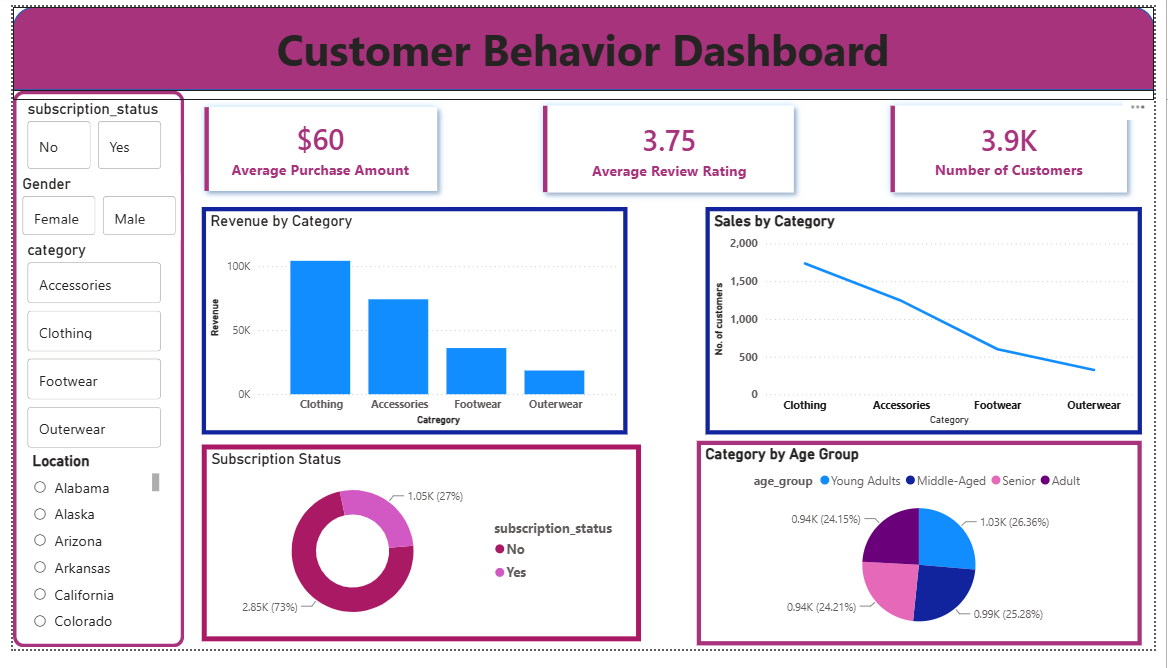

Layout of this report page (visuals, bound fields, positions):
{"tool":"powerbi","page":{"name":"Page 1","canvas":[1280,720],"ordinal":0},"visuals":[{"type":"shape","box":[0,0,1280.3,93.3],"z":0,"group":"g4"},{"type":"shape","box":[0,93.3,192.1,624.4],"z":0},{"type":"cardVisual","fields":{"Data":["dev customer_behaviour.Average Purchase Amount"]},"box":[196.2,93.3,297.8,130.4],"z":0,"group":"g3"},{"type":"advancedSlicerVisual","fields":{"Values":["dev customer_behaviour.subscription_status"]},"box":[11,104.3,160.5,83.7],"z":0,"group":"g1"},{"type":"advancedSlicerVisual","title":"Gender","fields":{"Values":["dev customer_behaviour.gender"]},"box":[5.5,188,182.5,74.1],"z":0,"group":"g2"},{"type":"textbox","box":[137.2,9.6,1004.5,94.7],"z":1000,"group":"g4"},{"type":"cardVisual","fields":{"Data":["dev customer_behaviour.Average Review Rating"]},"box":[577.7,93.3,315.6,131.7],"z":1000,"group":"g3"},{"type":"group","id":"g1","title":"Group 2","box":[5.5,104.3,182.5,601],"z":1000},{"type":"group","id":"g2","title":"Group 1","box":[5.5,188,182.5,517.3],"z":1000,"group":"g1"},{"type":"advancedSlicerVisual","fields":{"Values":["dev customer_behaviour.category"]},"box":[11,262.1,160.5,237.4],"z":1000,"group":"g2"},{"type":"cardVisual","fields":{"Data":["dev customer_behaviour.Number of Customers"]},"box":[967.4,93.3,299.1,131.7],"z":2000,"group":"g3"},{"type":"clusteredColumnChart","title":"Revenue by Category","fields":{"Category":["dev customer_behaviour.category"],"Y":["Sum(dev customer_behaviour.purchase_amount)"]},"box":[211.3,223.7,477.5,255.2],"z":2000},{"type":"listSlicer","title":"Location","fields":{"Values":["dev customer_behaviour.location"]},"box":[16.5,499.5,152.3,205.8],"z":2000,"group":"g2"},{"type":"lineChart","title":"Sales by Category","fields":{"Category":["dev customer_behaviour.category"],"Y":["CountNonNull(dev customer_behaviour.customer_id)"]},"box":[776.9,224.4,489.4,255.2],"z":3000},{"type":"donutChart","title":"Subscription Status","fields":{"Category":["dev customer_behaviour.subscription_status"],"Y":["CountNonNull(dev customer_behaviour.customer_id)"]},"box":[211.3,491.3,492.6,220.9],"z":4000},{"type":"pieChart","title":"Category by Age Group","fields":{"Category":["dev customer_behaviour.age_group"],"Y":["CountNonNull(dev customer_behaviour.category)"]},"box":[767,486.6,499.2,230],"z":5000},{"type":"group","id":"g3","title":"Group 3","box":[196.2,93.3,1070.3,131.7],"z":6000},{"type":"group","id":"g4","title":"Group 4","box":[0,0,1280.3,104.3],"z":7000}]}

Visuals, with their boxes in screenshot pixels (x1, y1, x2, y2), scaled from the page's 1280x720 canvas onto the 1168x668 screenshot:
shape: bbox=(0, 0, 1167, 87)
shape: bbox=(0, 87, 175, 666)
cardVisual - dev customer_behaviour.Average Purchase Amount: bbox=(179, 87, 451, 208)
advancedSlicerVisual - dev customer_behaviour.subscription_status: bbox=(10, 97, 156, 174)
"Gender" advancedSlicerVisual: bbox=(5, 174, 172, 243)
textbox: bbox=(125, 9, 1042, 97)
cardVisual - dev customer_behaviour.Average Review Rating: bbox=(527, 87, 815, 209)
"Group 2" group: bbox=(5, 97, 172, 654)
"Group 1" group: bbox=(5, 174, 172, 654)
advancedSlicerVisual - dev customer_behaviour.category: bbox=(10, 243, 156, 463)
cardVisual - dev customer_behaviour.Number of Customers: bbox=(883, 87, 1156, 209)
"Revenue by Category" clusteredColumnChart: bbox=(193, 208, 629, 444)
"Location" listSlicer: bbox=(15, 463, 154, 654)
"Sales by Category" lineChart: bbox=(709, 208, 1155, 445)
"Subscription Status" donutChart: bbox=(193, 456, 642, 661)
"Category by Age Group" pieChart: bbox=(700, 451, 1155, 665)
"Group 3" group: bbox=(179, 87, 1156, 209)
"Group 4" group: bbox=(0, 0, 1167, 97)
